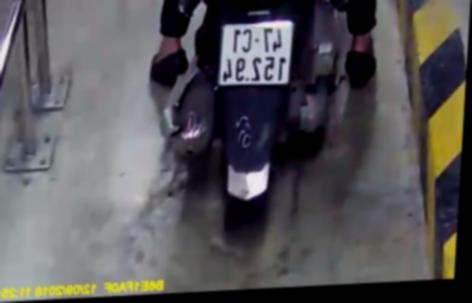License_Plate: (208, 14, 298, 93)
